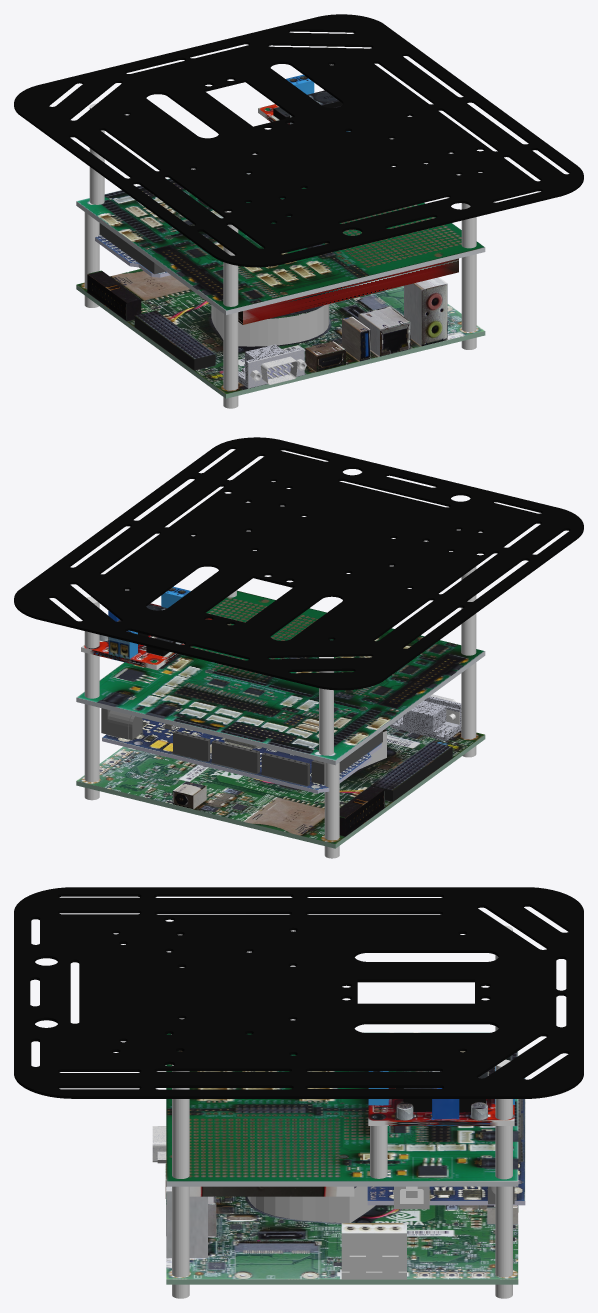
The model's file is jetduino_assembly.dae.
The picture shows the model from 3 angles, top to bottom: view 1: azimuth 30°, elevation 25°; view 2: azimuth 150°, elevation 25°; view 3: azimuth 270°, elevation 25°; orthographic projection. The views are drawn at different scales.
Visible parts, largest first — view 1: SketchUp_002, Cube_001, Cube, Cube_002, Cylinder, audio, header, nework, jtag, Group1, Cylinder_003, Cylinder_002 (+8 smaller); view 2: SketchUp_002, Cube_001, Cube, Group1, header, group_0_039, jtag, Cylinder_001, Cylinder_004, I_Os1, I_Os2, Cylinder_003 (+7 smaller); view 3: SketchUp_002, Cube_001, Cube, Cube_006, Cylinder, Group1, Cube_003, Cube_002, Cylinder_001, Cylinder_002, audio, Cylinder_017 (+9 smaller).
Part boxes in pixels (<box>): SketchUp_002: <box>14,14,583,267</box>; Cube_001: <box>76,173,485,314</box>; Cube: <box>76,269,485,398</box>; Cube_002: <box>238,258,458,324</box>; Cylinder: <box>211,304,329,346</box>; audio: <box>404,277,447,346</box>; header: <box>134,310,215,370</box>; nework: <box>358,306,410,356</box>; jtag: <box>87,270,141,320</box>; Group1: <box>95,223,170,277</box>; Cylinder_003: <box>223,312,238,390</box>; Cylinder_002: <box>461,254,476,331</box>; SketchUp_002: <box>14,437,583,690</box>; Cube_001: <box>76,590,485,765</box>; Cube: <box>76,725,485,848</box>; Group1: <box>102,718,382,793</box>; header: <box>371,741,452,801</box>; group_0_039: <box>390,696,461,740</box>; jtag: <box>339,786,384,836</box>; Cylinder_001: <box>84,704,99,781</box>; Cylinder_004: <box>324,762,339,840</box>; I_Os1: <box>211,740,259,773</box>; I_Os2: <box>261,752,309,785</box>; Cylinder_003: <box>461,662,476,739</box>; SketchUp_002: <box>14,887,583,1098</box>; Cube_001: <box>166,1032,518,1186</box>; Cube: <box>166,1196,518,1284</box>; Cube_006: <box>341,1223,406,1279</box>; Cylinder: <box>247,1186,375,1222</box>; Group1: <box>367,1078,525,1205</box>; Cube_003: <box>368,1088,514,1125</box>; Cube_002: <box>189,1186,354,1196</box>; Cylinder_001: <box>495,1186,512,1277</box>; Cylinder_002: <box>172,1186,189,1277</box>; audio: <box>166,1186,207,1257</box>; Cylinder_017: <box>172,1064,189,1178</box>.
Size of the model in its own units: 1.69 by 1.94 by 0.8828.
87 materials, 39 textured.
